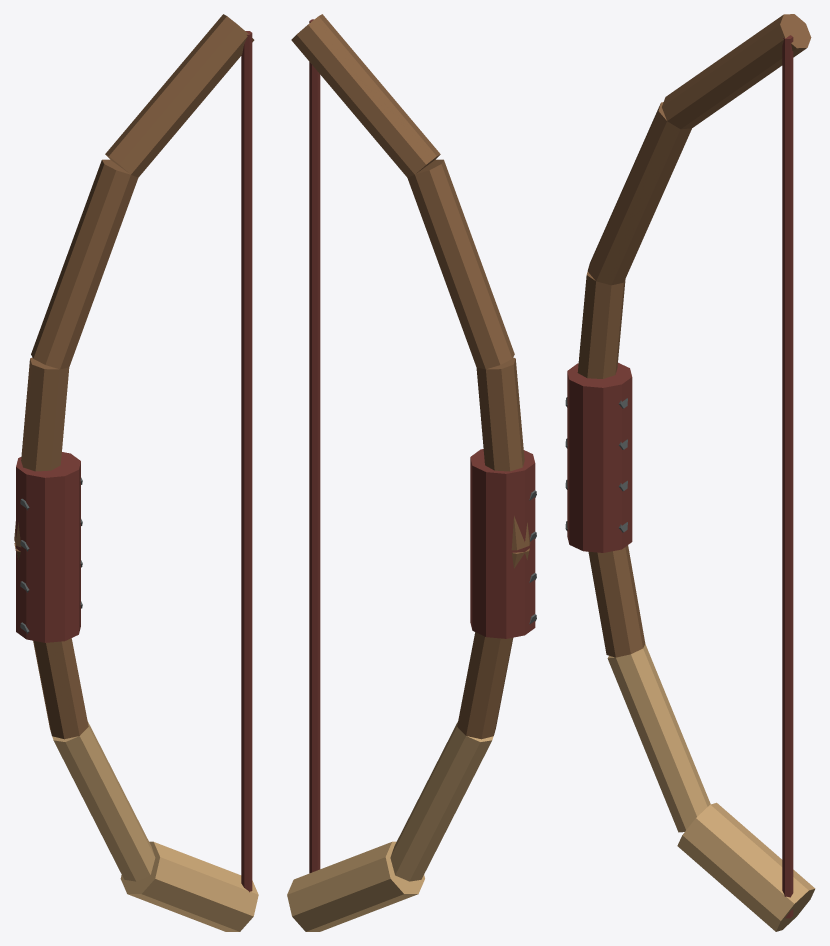
The model's file is greenwood_longbow.glb.
The picture shows the model from 3 angles, left to right: view 1: azimuth 30°, elevation 25°; view 2: azimuth 150°, elevation 25°; view 3: azimuth 330°, elevation 25°; orthographic projection.
Visible parts, largest first — view 1: Leather bow grip, Waxed bowstring, Laminated bow limb.004, Laminated bow limb.005, Laminated bow limb, Laminated bow limb.001, Laminated bow limb.003, Laminated bow limb.002; view 2: Leather bow grip, Waxed bowstring, Laminated bow limb.004, Laminated bow limb.005, Laminated bow limb, Laminated bow limb.001, Laminated bow limb.003, Laminated bow limb.002; view 3: Leather bow grip, Waxed bowstring, Laminated bow limb, Laminated bow limb.001, Laminated bow limb.004, Laminated bow limb.005, Laminated bow limb.002, Laminated bow limb.003.
Boxes of the visible parts, box(x1,y1,x2,y2) form: Leather bow grip: box(16, 452, 80, 642); Waxed bowstring: box(241, 31, 252, 892); Laminated bow limb.004: box(31, 159, 138, 369); Laminated bow limb.005: box(105, 14, 254, 177); Laminated bow limb: box(120, 841, 258, 931); Laminated bow limb.001: box(52, 721, 155, 881); Laminated bow limb.003: box(14, 357, 69, 547); Laminated bow limb.002: box(14, 543, 88, 739); Leather bow grip: box(470, 449, 535, 638); Waxed bowstring: box(309, 19, 320, 873); Laminated bow limb.004: box(407, 159, 514, 369); Laminated bow limb.005: box(291, 14, 440, 177); Laminated bow limb: box(287, 841, 424, 931); Laminated bow limb.001: box(390, 722, 493, 881); Laminated bow limb.003: box(476, 357, 530, 550); Laminated bow limb.002: box(457, 548, 529, 739); Leather bow grip: box(567, 362, 632, 552); Waxed bowstring: box(782, 35, 793, 918); Laminated bow limb: box(677, 802, 815, 931); Laminated bow limb.001: box(607, 644, 710, 832); Laminated bow limb.004: box(587, 102, 691, 285); Laminated bow limb.005: box(662, 14, 811, 129); Laminated bow limb.002: box(588, 545, 645, 657); Laminated bow limb.003: box(577, 272, 625, 378).
Bounding box in the file's own units: 0.5982 × 2.22 × 0.15.
